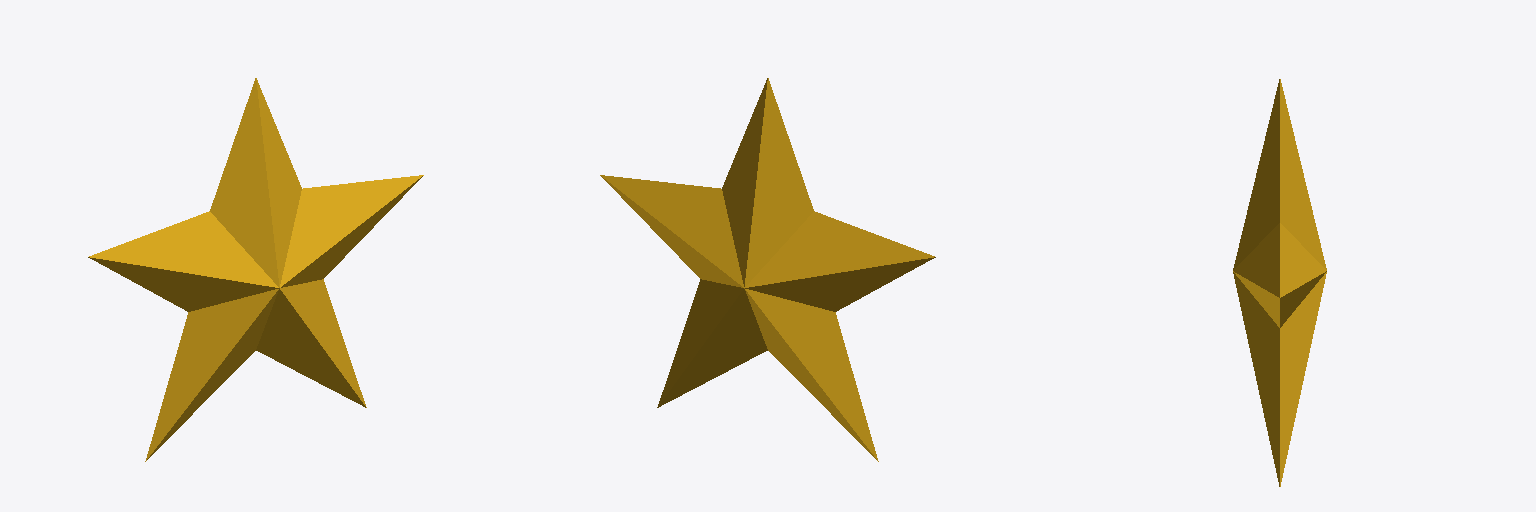
The picture shows the model from 3 angles: view 1: azimuth 30°, elevation 25°; view 2: azimuth 150°, elevation 25°; view 3: azimuth 270°, elevation 25°; orthographic projection.
Parts seen in each view (by area): view 1: Cube; view 2: Cube; view 3: Cube.
Part boxes in pixels (bbox=[...]): Cube: bbox=[88, 78, 423, 461]; Cube: bbox=[600, 78, 935, 461]; Cube: bbox=[1233, 79, 1326, 486].
Bounding box in the file's own units: 7.34 × 7.46 × 1.78.
Materials: 1 (1 with a texture image).